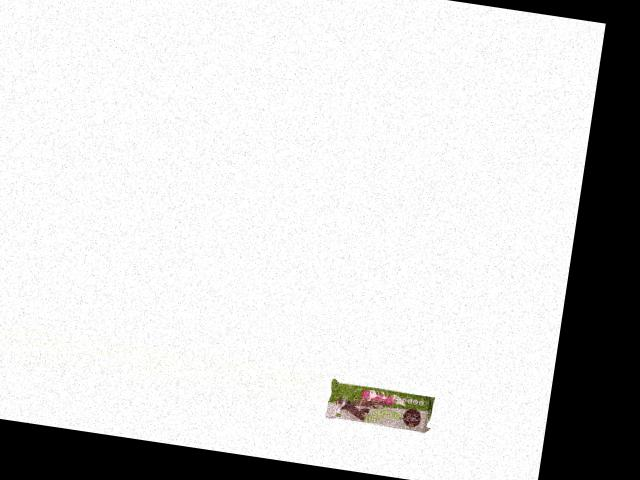chocolate: (324, 379, 438, 438)
